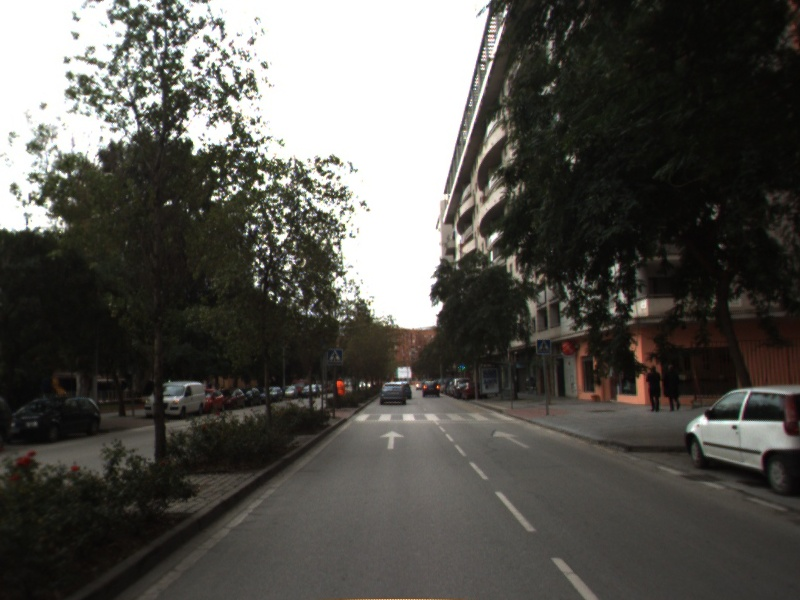STRAIGHT: (490, 428, 533, 451), (377, 428, 407, 451)
